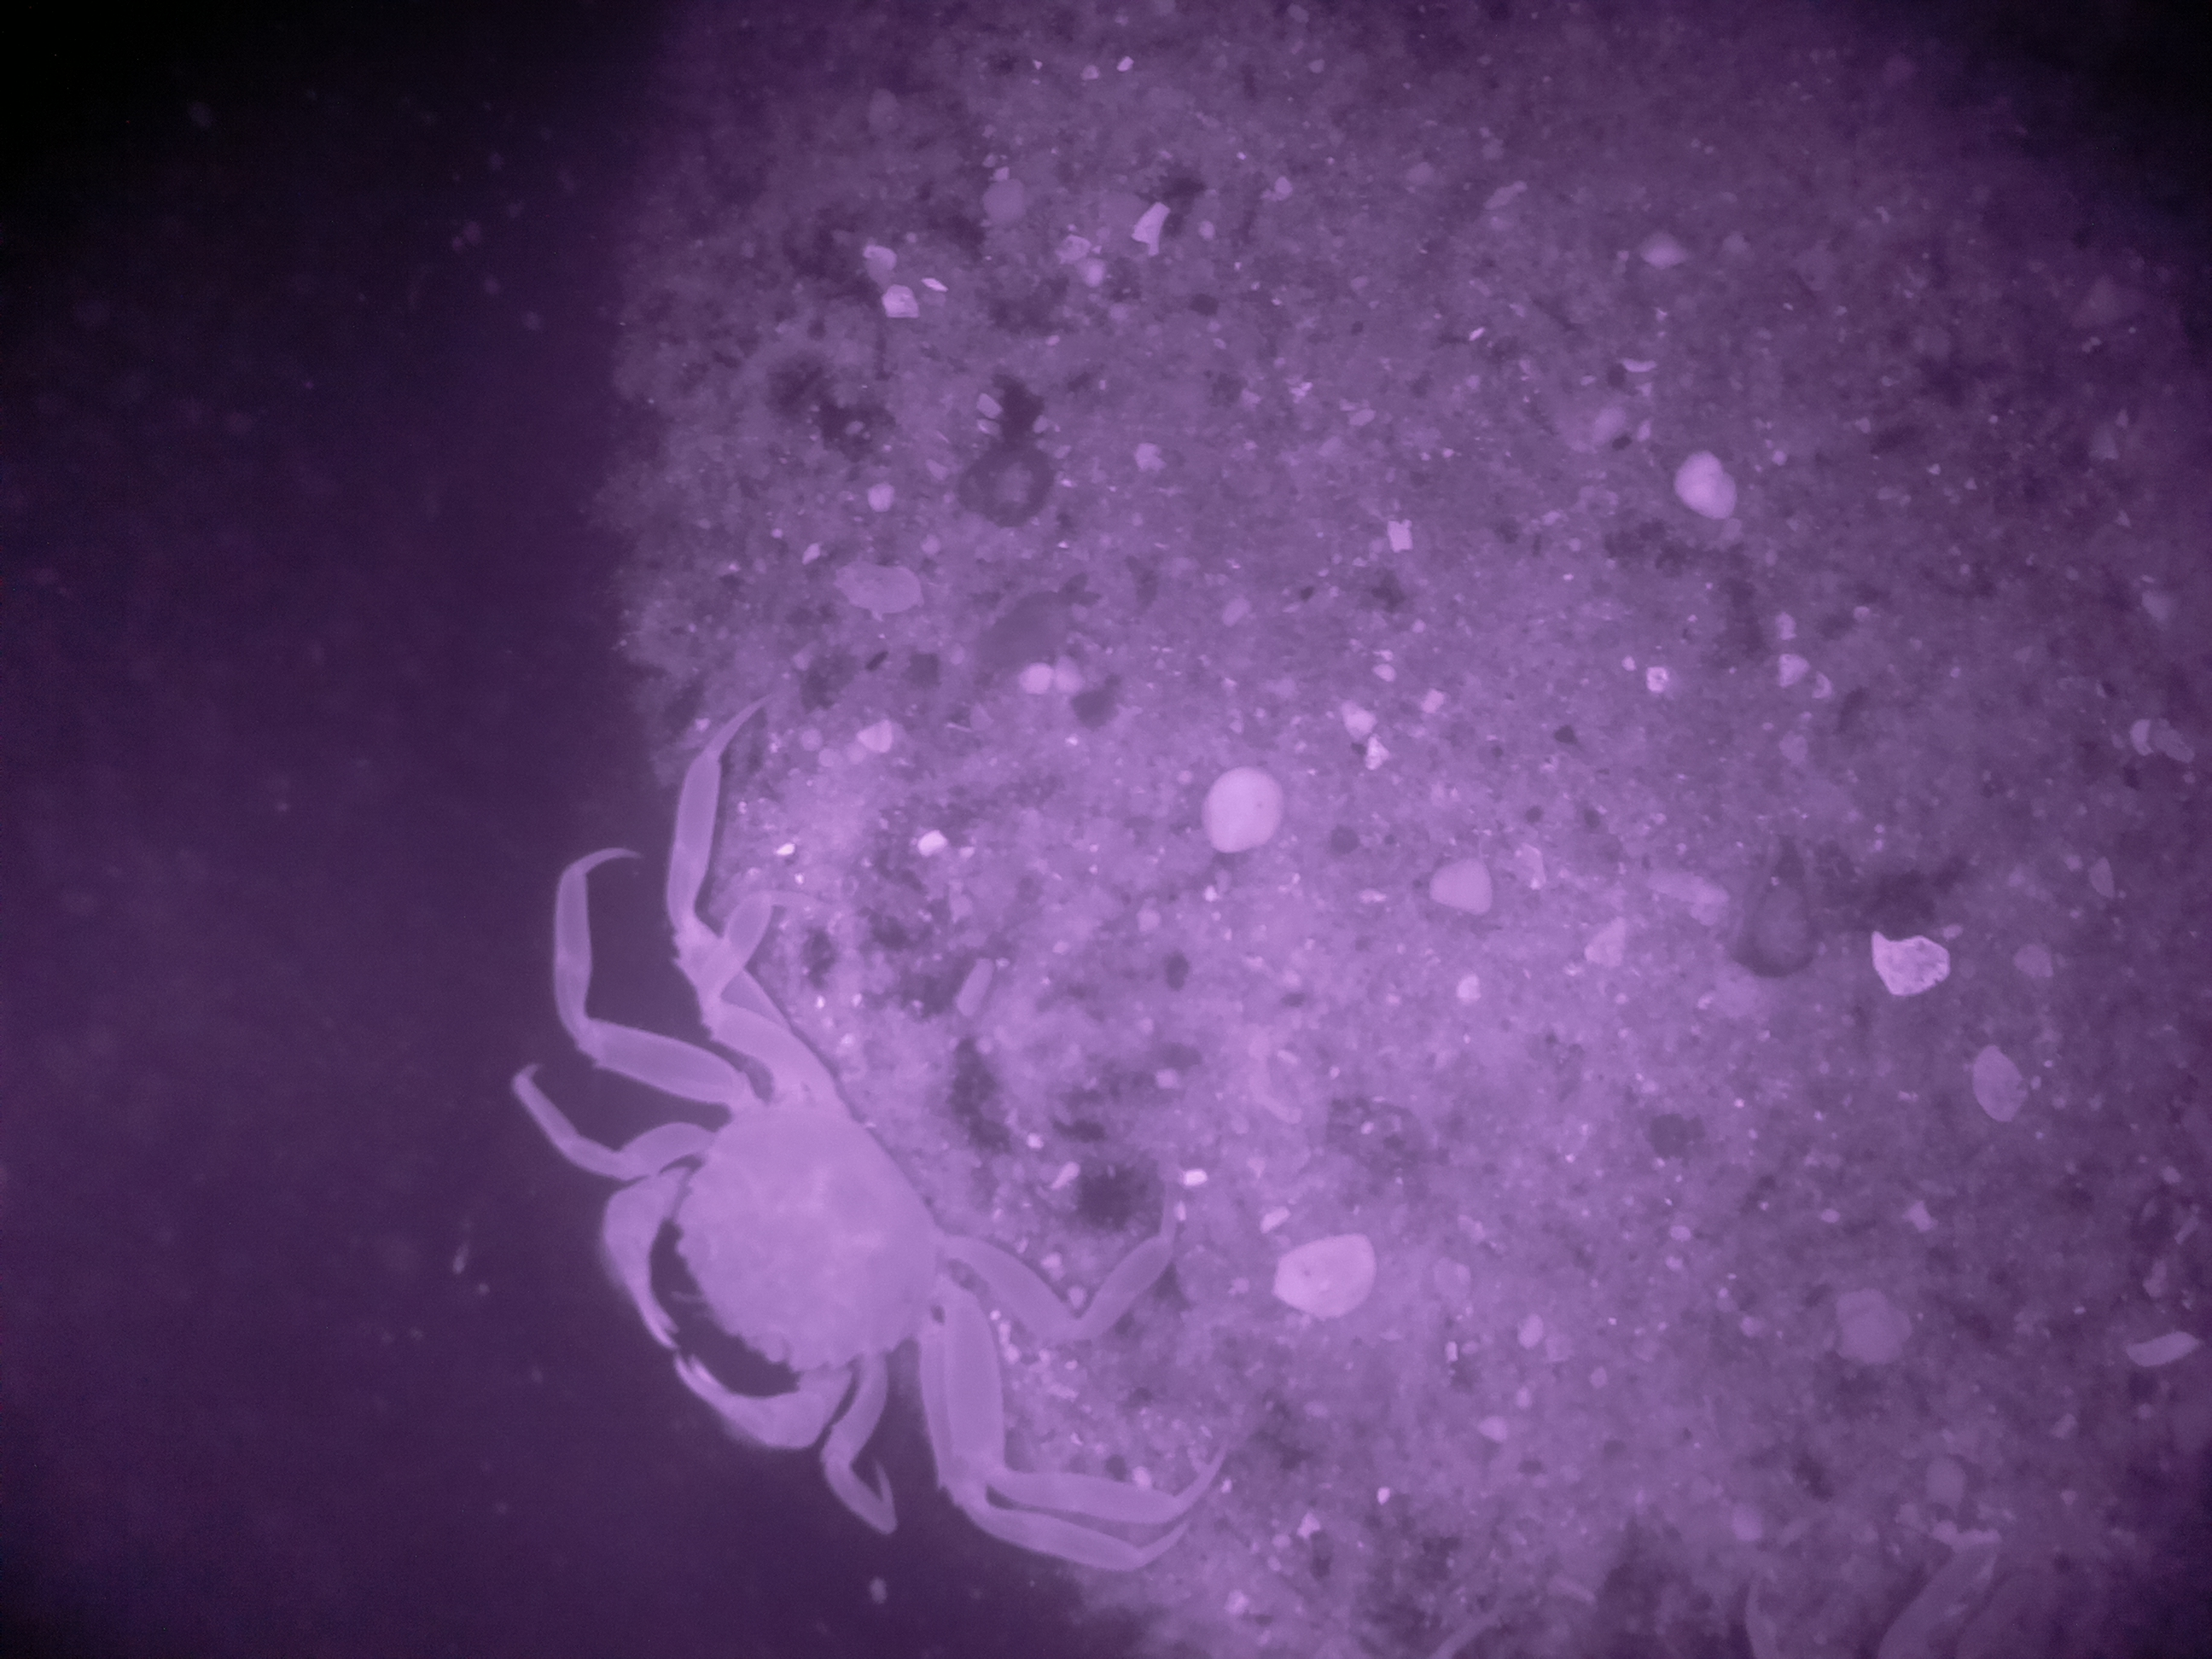Crab: (543, 999, 1054, 1521)
